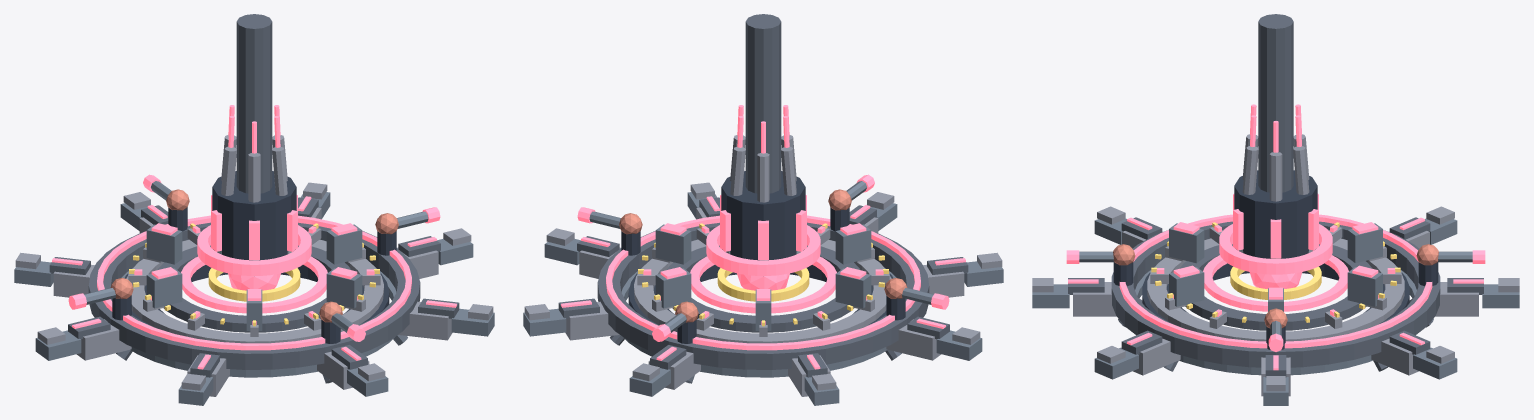
File: relay_2_mars.glb
3 renders of one model, left to right at view 1: azimuth 30°, elevation 25°; view 2: azimuth 150°, elevation 25°; view 3: azimuth 270°, elevation 25°, orthographic.
Visible parts, largest first — view 1: RLY_2, RLY_1, RLY_3, RLY_4, RLY_0, RLY_5, RLY_6; view 2: RLY_2, RLY_1, RLY_3, RLY_4, RLY_0, RLY_5, RLY_6; view 3: RLY_2, RLY_1, RLY_3, RLY_4, RLY_0, RLY_5, RLY_6.
Part boxes in pixels (x1,y1,x2,y2): RLY_2: (49,14,459,383); RLY_1: (15,135,493,396); RLY_3: (52,105,456,369); RLY_4: (14,181,494,405); RLY_0: (112,171,396,343); RLY_5: (129,223,379,326); RLY_6: (110,189,398,322); RLY_2: (558,14,968,383); RLY_1: (524,135,1002,396); RLY_3: (561,105,965,369); RLY_4: (523,181,1003,405); RLY_0: (621,171,905,343); RLY_5: (638,223,888,326); RLY_6: (619,189,907,322); RLY_2: (1068,14,1483,377); RLY_1: (1032,134,1519,396); RLY_3: (1066,104,1485,370); RLY_4: (1032,218,1519,405); RLY_0: (1113,170,1438,349); RLY_5: (1151,222,1400,322); RLY_6: (1113,244,1438,328).
Size of the model in its own units: 9.92 by 6.86 by 9.92.
